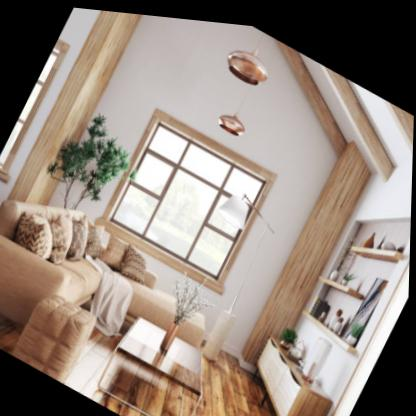Window: (97, 98, 277, 291)
Wooden floor: (201, 347, 280, 416)
